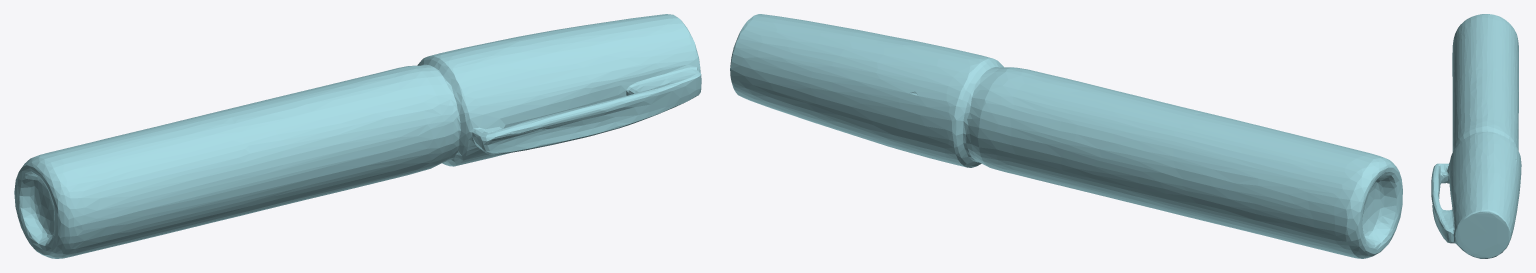
File: sharpie_closed.obj
3 renders of one model, left to right at view 1: azimuth 30°, elevation 25°; view 2: azimuth 150°, elevation 25°; view 3: azimuth 270°, elevation 25°, orthographic. The views are drawn at different scales.
Parts seen in each view (by area): view 1: geometry_0; view 2: geometry_0; view 3: geometry_0.
Part boxes in pixels (<box>): geometry_0: <box>14,14,701,258</box>; geometry_0: <box>730,14,1402,258</box>; geometry_0: <box>1431,14,1521,258</box>.
Bounding box in the file's own units: 0.143 × 0.022 × 0.028.
